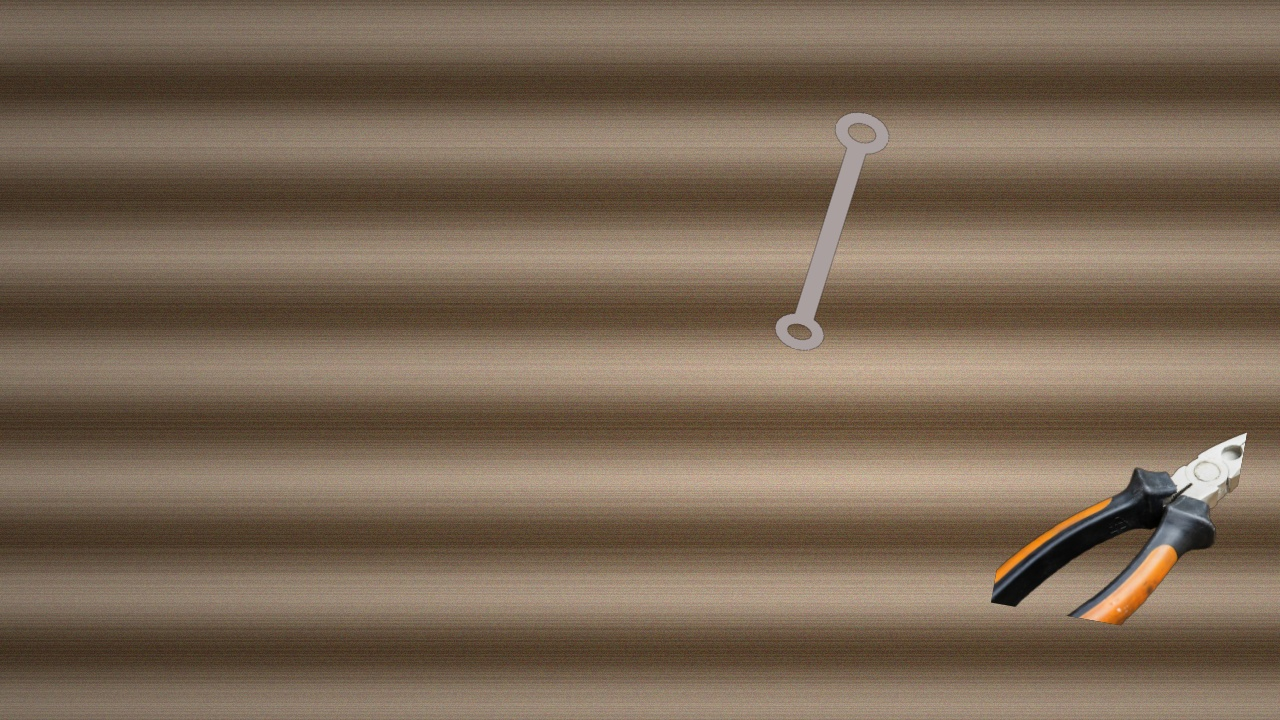pliers: (989, 430, 1248, 627)
wrench: (772, 110, 891, 352)
